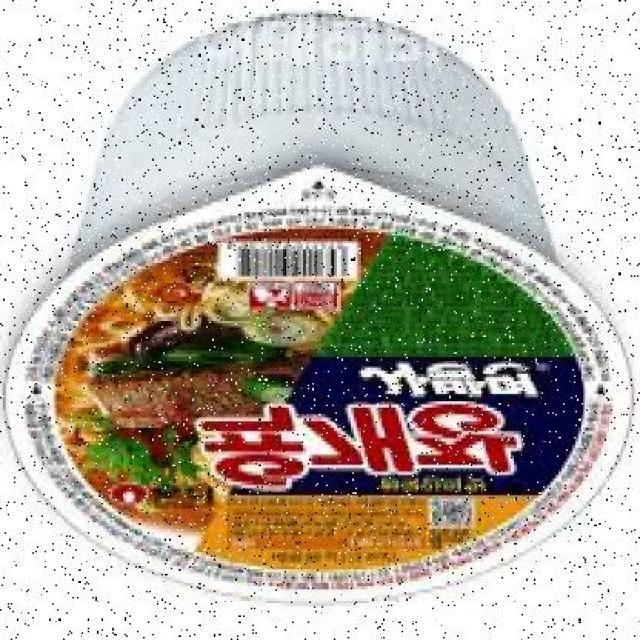Miscellaneous: (3, 0, 640, 611)
